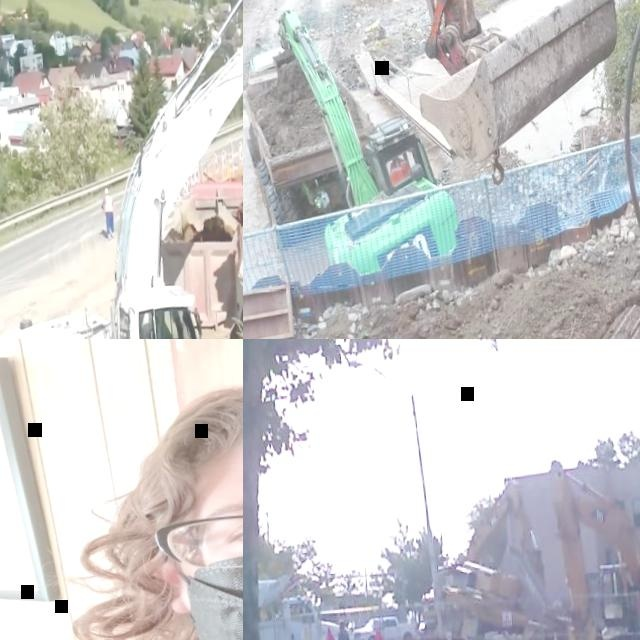Hardhat: (104, 188, 108, 194)
NO-Hardhat: (139, 347, 243, 496), (339, 620, 345, 627)
Person: (0, 341, 243, 640), (100, 188, 115, 240), (146, 316, 175, 339), (388, 155, 408, 185), (336, 620, 350, 640)
Safety Cone: (372, 622, 381, 640), (324, 626, 334, 640)
Safety Vest: (389, 158, 406, 183), (103, 196, 113, 214)
machinery: (367, 0, 640, 339), (0, 0, 243, 339), (275, 0, 460, 282), (409, 474, 549, 640), (544, 451, 640, 640), (154, 175, 243, 339), (243, 572, 344, 640)
vehicle: (351, 612, 417, 640)
